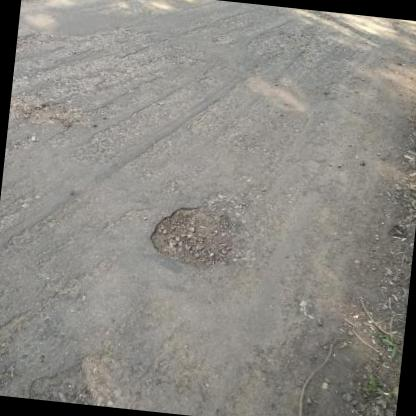pothole: (143, 198, 247, 271), (25, 96, 69, 126)
